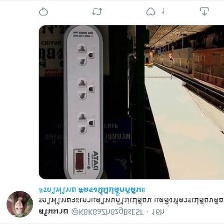three_eye_plug: (59, 25, 106, 180)
